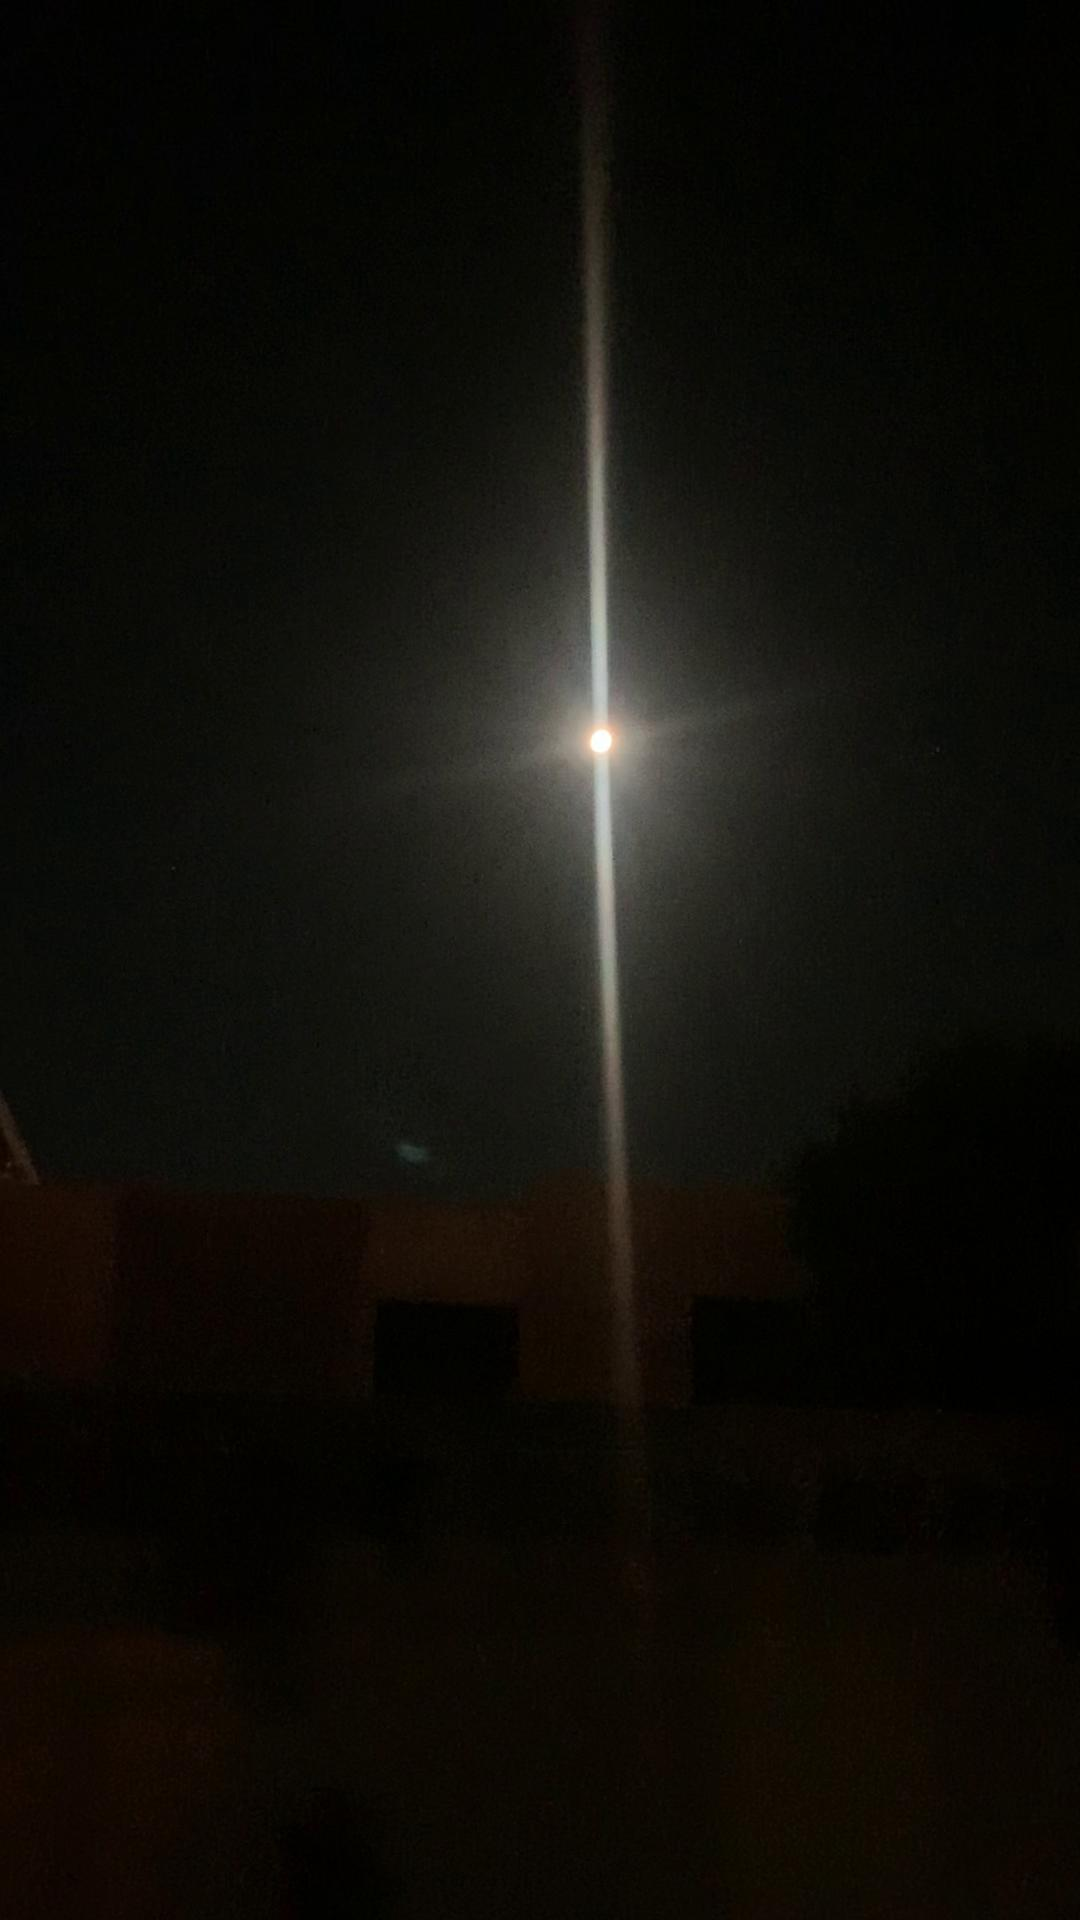moon: (567, 698, 641, 775)
